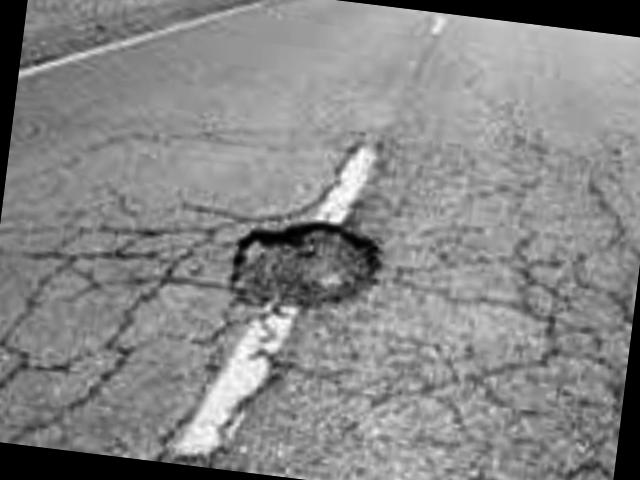Pothole: (203, 200, 399, 330)
